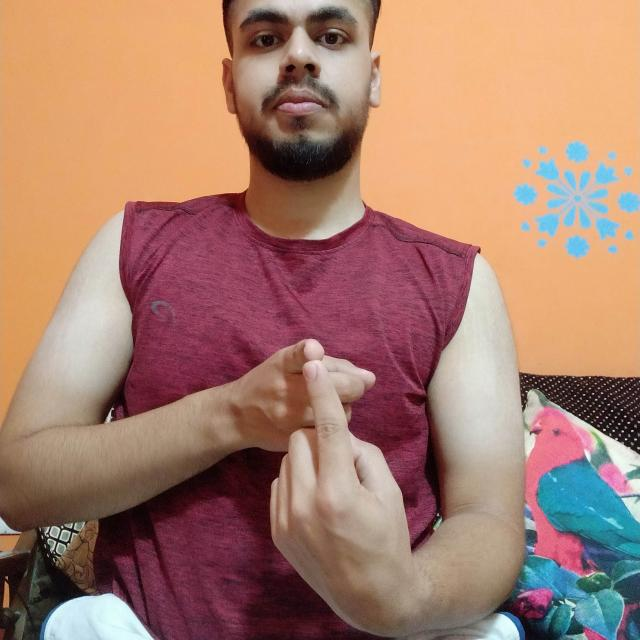I: (219, 315, 451, 640)
